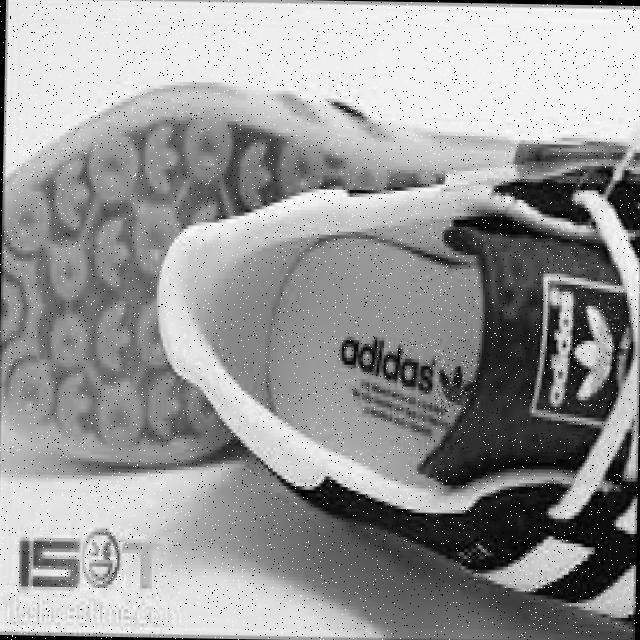Adidas: (567, 281, 620, 412), (435, 348, 480, 415)
